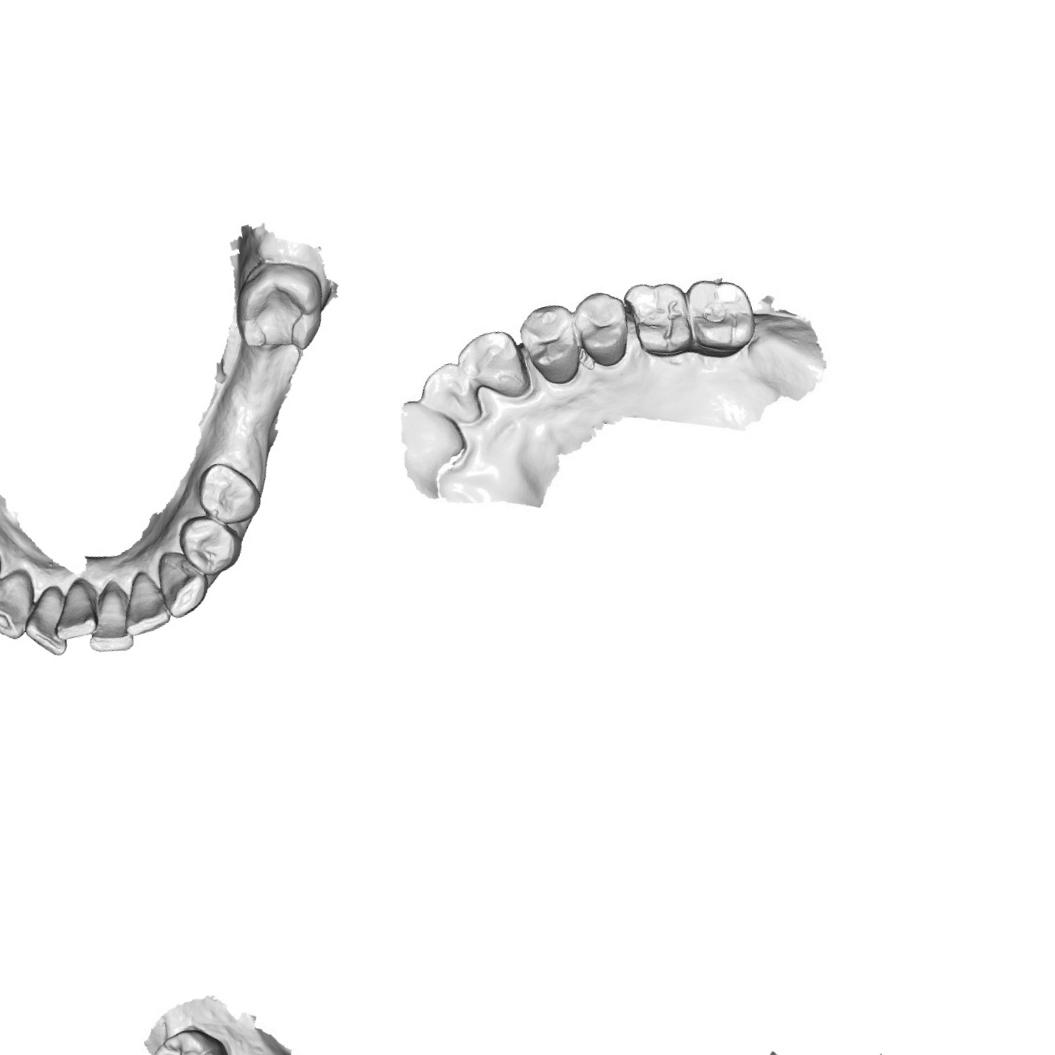canine: (456, 319, 540, 414), (149, 542, 213, 622), (0, 565, 44, 647)
incisor: (411, 355, 495, 440), (110, 566, 174, 640), (76, 584, 138, 660), (14, 586, 74, 664), (40, 572, 104, 645)
molar: (221, 250, 335, 366), (678, 268, 766, 367), (621, 273, 699, 368), (146, 1023, 229, 1055)
premolar: (563, 279, 639, 378), (516, 300, 590, 399), (189, 452, 266, 532), (173, 507, 245, 581)
